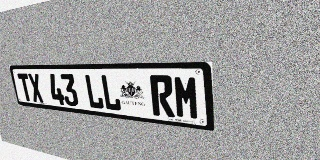3: (60, 74, 79, 107)
4: (47, 74, 65, 105)
L: (100, 74, 122, 112), (84, 74, 105, 110)
M: (173, 75, 200, 120)
R: (150, 75, 175, 118)
T: (17, 73, 33, 102)
X: (27, 73, 44, 103)
